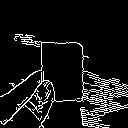cube: (31, 36, 95, 106)
